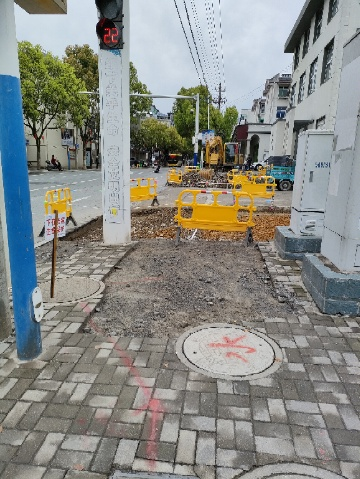good: (177, 323, 285, 379), (37, 276, 105, 303)
